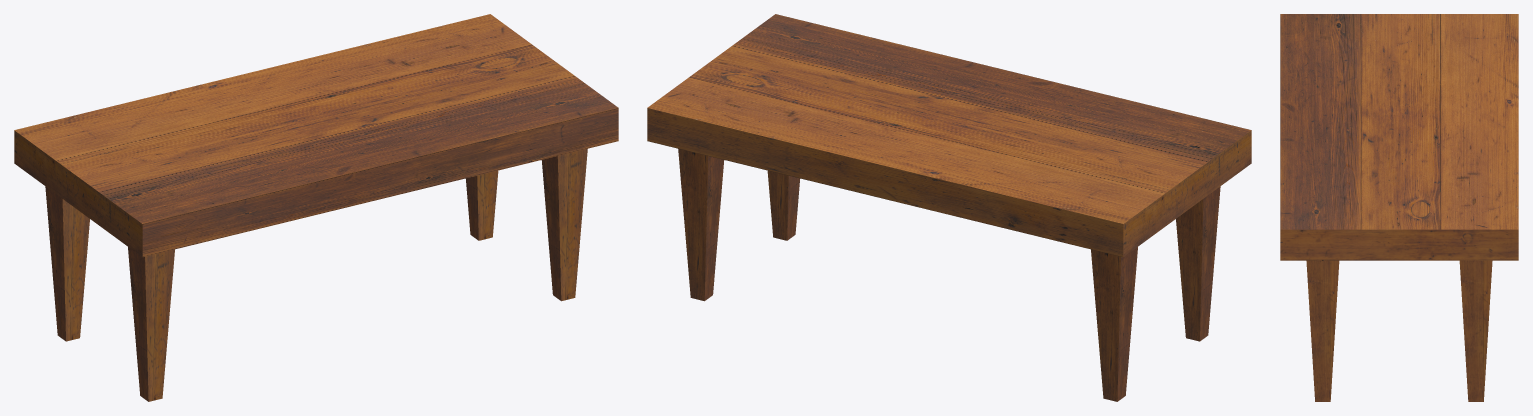
File: Table.glb
3 renders of one model, left to right at view 1: azimuth 30°, elevation 25°; view 2: azimuth 150°, elevation 25°; view 3: azimuth 270°, elevation 25°, orthographic. The views are drawn at different scales.
Visible parts, largest first — view 1: Tabletop, Object.003, Object.002, Object, Object.001; view 2: Tabletop, Object, Object.001, Object.003, Object.002; view 3: Tabletop, Object.001, Object.002.
Part boxes in pixels (<box>): Tabletop: <box>14,14,618,257</box>; Object.003: <box>128,247,174,401</box>; Object.002: <box>541,148,587,301</box>; Object: <box>45,186,89,341</box>; Object.001: <box>465,170,498,240</box>; Tabletop: <box>647,14,1251,257</box>; Object: <box>1091,247,1137,401</box>; Object.001: <box>678,148,724,301</box>; Object.003: <box>1176,186,1220,341</box>; Object.002: <box>767,170,800,240</box>; Tabletop: <box>1280,14,1518,260</box>; Object.001: <box>1459,260,1492,401</box>; Object.002: <box>1306,260,1339,401</box>.
Bounding box in the file's own units: 30 × 11.9 × 14.
Materials: 5 (5 with a texture image).
